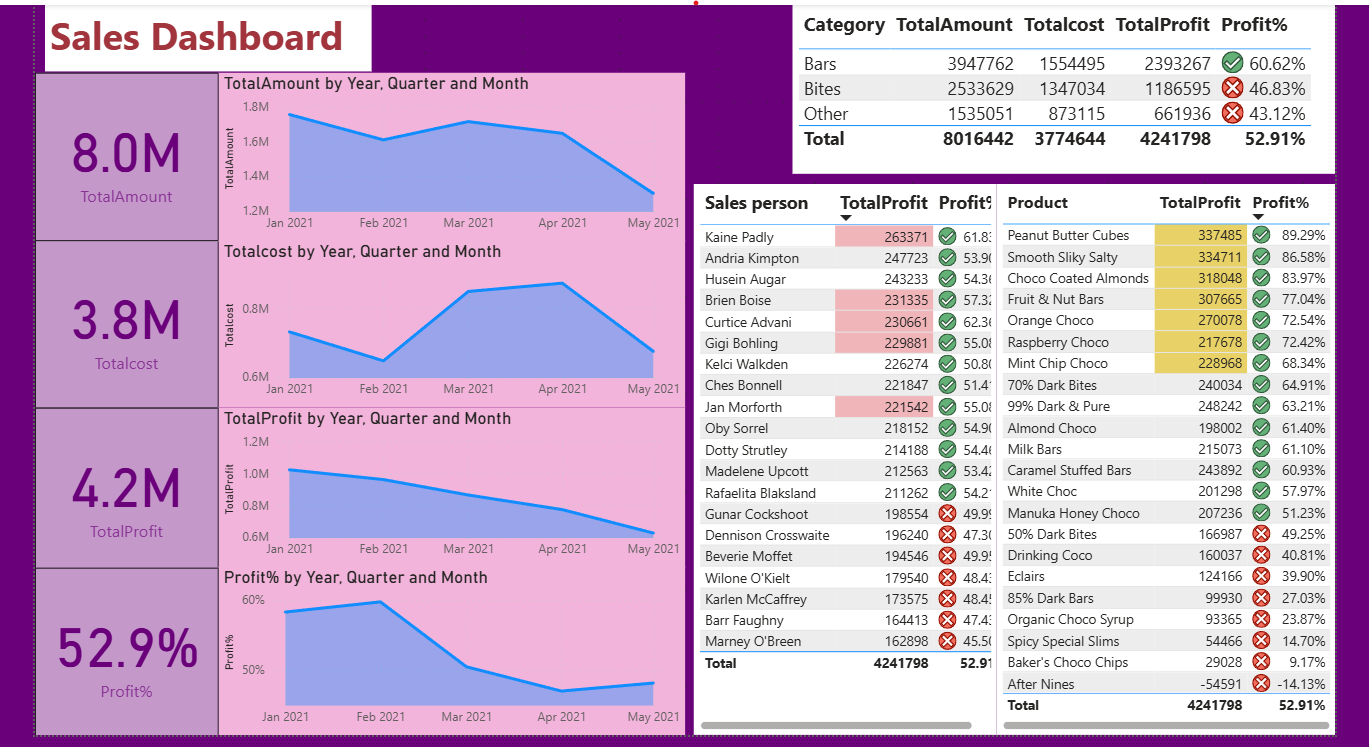

What the dashboard file says about the page in this screenshot:
{"tool":"powerbi","page":{"name":"Page 1","canvas":[1280,720],"ordinal":0},"visuals":[{"type":"textbox","box":[9.7,0,321.4,66.8],"z":0},{"type":"tableEx","fields":{"Values":["products.Category","sales.TotalAmount","sales.Totalcost","sales.TotalProfit","sales.Profit%"]},"box":[745.7,0,534.3,167],"z":1000},{"type":"actionButton","box":[0,0,100,40],"z":2000},{"type":"card","fields":{"Values":["sales.TotalAmount"]},"box":[0,67.7,180.9,166.2],"z":3000},{"type":"card","fields":{"Values":["sales.Totalcost"]},"box":[0,232.3,180.9,165.6],"z":4000},{"type":"card","fields":{"Values":["sales.TotalProfit"]},"box":[0,397.9,180.9,165.6],"z":5000},{"type":"card","fields":{"Values":["sales.Profit%"]},"box":[0,555.1,180.9,165.6],"z":6000},{"type":"areaChart","fields":{"Y":["sales.TotalAmount"],"Category":["sales.Date.Variation.Date Hierarchy.Year","sales.Date.Variation.Date Hierarchy.Quarter","sales.Date.Variation.Date Hierarchy.Month","sales.Date.Variation.Date Hierarchy.Day"]},"box":[180.9,67.7,459.1,166.2],"z":7000},{"type":"areaChart","fields":{"Category":["sales.Date.Variation.Date Hierarchy.Year","sales.Date.Variation.Date Hierarchy.Quarter","sales.Date.Variation.Date Hierarchy.Month","sales.Date.Variation.Date Hierarchy.Day"],"Y":["sales.Totalcost"]},"box":[180.9,232.6,459.1,164.9],"z":8000},{"type":"areaChart","fields":{"Category":["sales.Date.Variation.Date Hierarchy.Year","sales.Date.Variation.Date Hierarchy.Quarter","sales.Date.Variation.Date Hierarchy.Month","sales.Date.Variation.Date Hierarchy.Day"],"Y":["sales.TotalProfit"]},"box":[180.9,397.5,459.1,157.5],"z":9000},{"type":"areaChart","fields":{"Category":["sales.Date.Variation.Date Hierarchy.Year","sales.Date.Variation.Date Hierarchy.Quarter","sales.Date.Variation.Date Hierarchy.Month","sales.Date.Variation.Date Hierarchy.Day"],"Y":["sales.Profit%"]},"box":[180.9,553.8,459.1,166.2],"z":10000},{"type":"tableEx","fields":{"Values":["people.Sales person","sales.TotalProfit","sales.Profit%"]},"box":[648.6,177.2,297.8,542.8],"z":11000},{"type":"tableEx","fields":{"Values":["sales.Product","sales.TotalProfit","sales.Profit%"]},"box":[946.5,177.2,333.5,542.8],"z":12000}]}

Visuals, with their boxes in screenshot pixels (x1, y1, x2, y2):
textbox: 35, 0, 364, 65
tableEx - products.Category x sales.TotalAmount: 790, 0, 1338, 168
actionButton: 25, 0, 128, 37
card - sales.TotalAmount: 25, 66, 210, 236
card - sales.Totalcost: 25, 235, 210, 404
card - sales.TotalProfit: 25, 404, 210, 574
card - sales.Profit%: 25, 566, 210, 735
areaChart - sales.TotalAmount x sales.Date.Variation.Date Hierarchy.Year: 210, 66, 681, 236
areaChart - sales.Date.Variation.Date Hierarchy.Year x sales.Date.Variation.Date Hierarchy.Quarter: 210, 235, 681, 404
areaChart - sales.Date.Variation.Date Hierarchy.Year x sales.Date.Variation.Date Hierarchy.Quarter: 210, 404, 681, 566
areaChart - sales.Date.Variation.Date Hierarchy.Year x sales.Date.Variation.Date Hierarchy.Quarter: 210, 564, 681, 735
tableEx - people.Sales person x sales.TotalProfit: 690, 178, 995, 735
tableEx - sales.Product x sales.TotalProfit: 996, 178, 1338, 735
